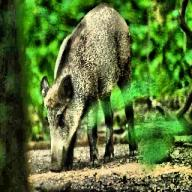boar: (40, 2, 138, 172)
